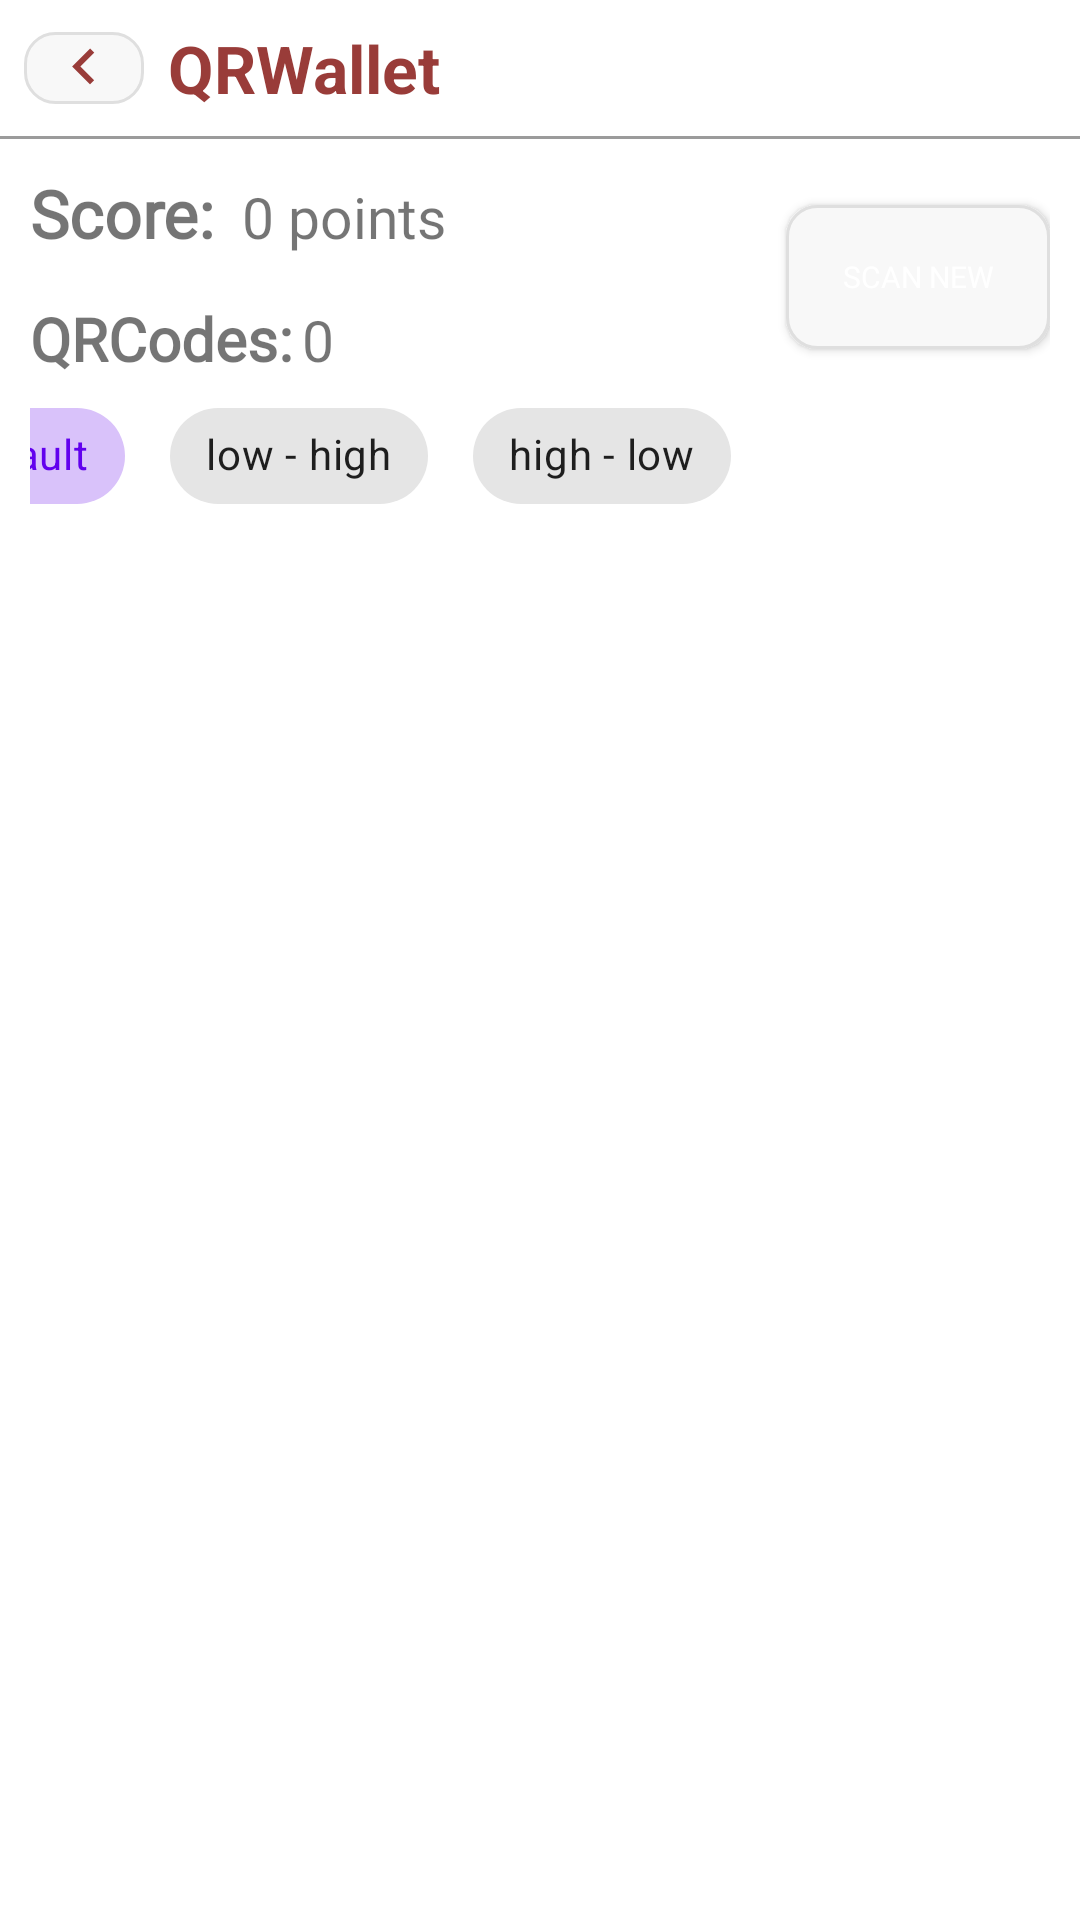

Icons on this 1080x1920 Android screen, each with its box as (x1, y1, x2, y2):
back: (24, 32, 144, 104)
